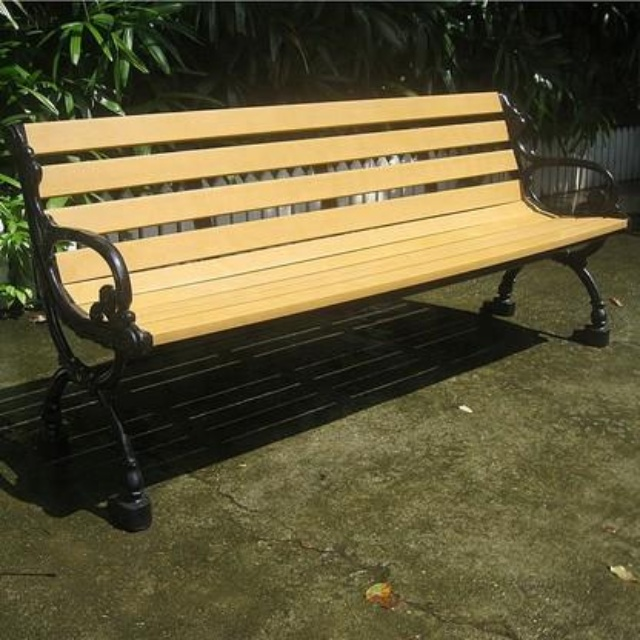obstacle: (6, 102, 628, 512)
